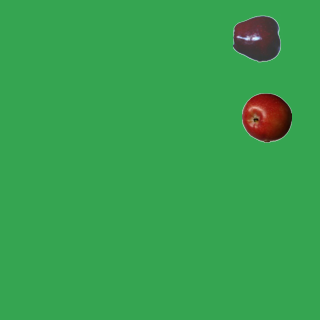Apple Braeburn: (241, 92, 291, 142)
Apple Red Delicious: (232, 13, 282, 63)
